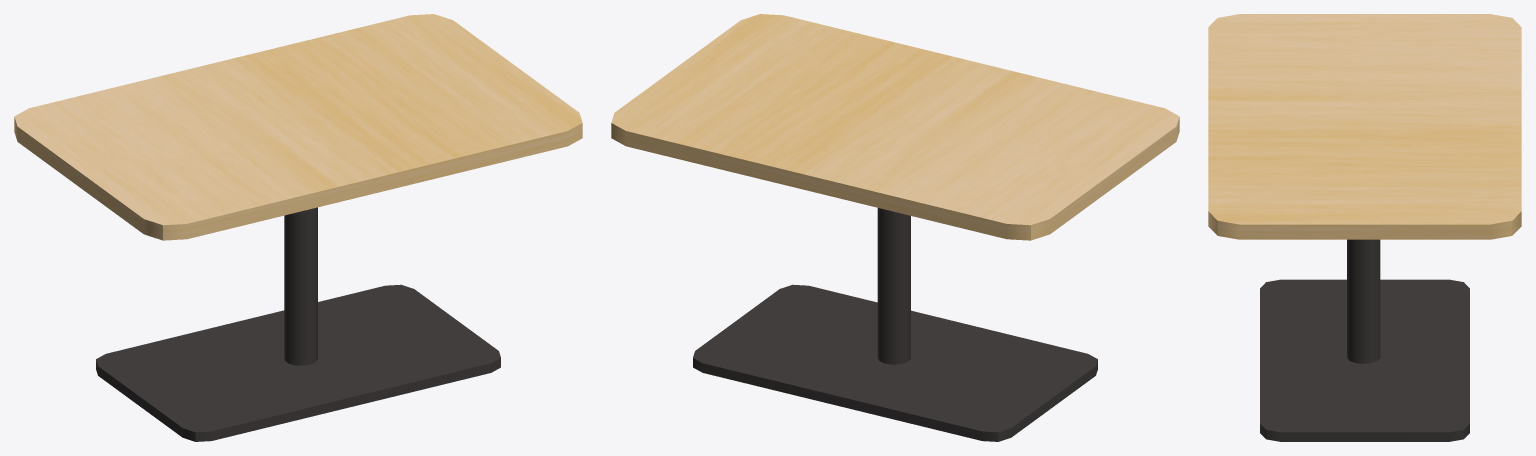
Rendered from Desk.fbx.
3 views of the same model, side by side, from view 1: azimuth 30°, elevation 25°; view 2: azimuth 150°, elevation 25°; view 3: azimuth 270°, elevation 25° (orthographic).
Visible parts, largest first — view 1: desk_top, desk_under, Pillar; view 2: desk_top, desk_under, Pillar; view 3: desk_top, desk_under, Pillar.
Boxes of the visible parts, <box> form: desk_top: <box>14,14,582,240</box>; desk_under: <box>96,284,500,441</box>; Pillar: <box>284,207,317,365</box>; desk_top: <box>611,14,1179,240</box>; desk_under: <box>693,284,1097,441</box>; Pillar: <box>877,208,910,364</box>; desk_top: <box>1208,14,1521,239</box>; desk_under: <box>1260,279,1469,441</box>; Pillar: <box>1347,239,1380,363</box>.
Bounding box in the file's own units: 29.64 × 16.17 × 18.63.
